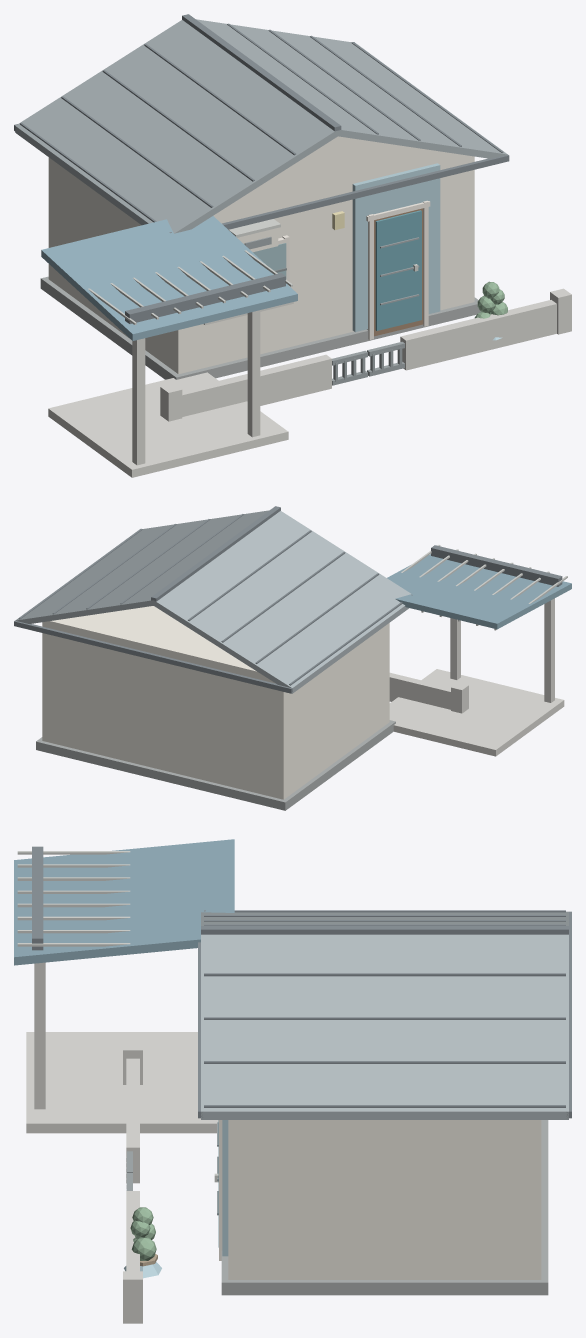
File: 10_Modern_Home_Carport.fbx
3 renders of one model, top to bottom at view 1: azimuth 30°, elevation 25°; view 2: azimuth 150°, elevation 25°; view 3: azimuth 270°, elevation 25°, orthographic. The views are drawn at different scales.
Parts seen in each view (by area): view 1: H10_005_BlueGrayRoof_LeftSlope, H10_002_MainWalls, H10_040_CarportMetalCanopy, H10_006_BlueGrayRoof_RightSlope, H10_039_CarportFloor, H10_004_MainGable, H10_003_EntryVolume, H10_054_FrontLowFence_Wall1, H10_020_ModernMainDoor_DoorLeaf, H10_001_FoundationSlab, H10_052_FrontLowFence_Wall-1, H10_007_BlueGrayRoof_FrontFascia (+13 smaller); view 2: H10_002_MainWalls, H10_005_BlueGrayRoof_LeftSlope, H10_006_BlueGrayRoof_RightSlope, H10_039_CarportFloor, H10_040_CarportMetalCanopy, H10_001_FoundationSlab, H10_008_BlueGrayRoof_BackFascia, H10_051_CarportSideBeam, H10_052_FrontLowFence_Wall-1, H10_009_BlueGrayRoof_RidgeCap, H10_049_CarportPost-4.85, H10_050_CarportPost-2.75 (+4 smaller); view 3: H10_006_BlueGrayRoof_RightSlope, H10_002_MainWalls, H10_040_CarportMetalCanopy, H10_039_CarportFloor, H10_001_FoundationSlab, H10_005_BlueGrayRoof_LeftSlope, H10_009_BlueGrayRoof_RidgeCap, H10_050_CarportPost-2.75, H10_052_FrontLowFence_Wall-1, H10_015_BlueGrayRoof_Rib06, H10_051_CarportSideBeam, H10_016_BlueGrayRoof_Rib07 (+10 smaller).
Part boxes in pixels (x1,y1,x2,y2): H10_005_BlueGrayRoof_LeftSlope: (15, 20, 337, 233); H10_002_MainWalls: (48, 155, 474, 374); H10_040_CarportMetalCanopy: (41, 216, 297, 340); H10_006_BlueGrayRoof_RightSlope: (196, 19, 507, 158); H10_039_CarportFloor: (48, 372, 288, 477); H10_004_MainGable: (213, 136, 465, 216); H10_003_EntryVolume: (352, 163, 440, 332); H10_054_FrontLowFence_Wall1: (400, 300, 556, 370); H10_020_ModernMainDoor_DoorLeaf: (375, 210, 421, 330); H10_001_FoundationSlab: (40, 276, 480, 379); H10_052_FrontLowFence_Wall-1: (182, 354, 331, 416); H10_007_BlueGrayRoof_FrontFascia: (222, 154, 509, 229); H10_002_MainWalls: (42, 606, 389, 799); H10_005_BlueGrayRoof_LeftSlope: (153, 511, 410, 693); H10_006_BlueGrayRoof_RightSlope: (15, 510, 268, 623); H10_039_CarportFloor: (389, 669, 564, 756); H10_040_CarportMetalCanopy: (387, 554, 571, 629); H10_001_FoundationSlab: (36, 720, 395, 810); H10_008_BlueGrayRoof_BackFascia: (14, 620, 292, 693); H10_051_CarportSideBeam: (431, 545, 562, 586); H10_052_FrontLowFence_Wall-1: (389, 672, 450, 709); H10_009_BlueGrayRoof_RidgeCap: (151, 506, 280, 601); H10_049_CarportPost-4.85: (544, 598, 554, 702); H10_050_CarportPost-2.75: (450, 618, 460, 679); H10_006_BlueGrayRoof_RightSlope: (201, 934, 568, 1119); H10_002_MainWalls: (228, 1120, 541, 1279); H10_040_CarportMetalCanopy: (14, 839, 234, 965); H10_039_CarportFloor: (26, 1032, 218, 1133); H10_001_FoundationSlab: (221, 1120, 548, 1295); H10_005_BlueGrayRoof_LeftSlope: (201, 911, 568, 925); H10_009_BlueGrayRoof_RidgeCap: (201, 926, 568, 934); H10_050_CarportPost-2.75: (34, 962, 45, 1109); H10_052_FrontLowFence_Wall-1: (126, 1058, 139, 1183); H10_015_BlueGrayRoof_Rib06: (204, 973, 565, 976); H10_051_CarportSideBeam: (32, 846, 43, 950); H10_016_BlueGrayRoof_Rib07: (204, 1017, 565, 1019).
Bounding box in the file's own units: 883 × 401 × 731.
